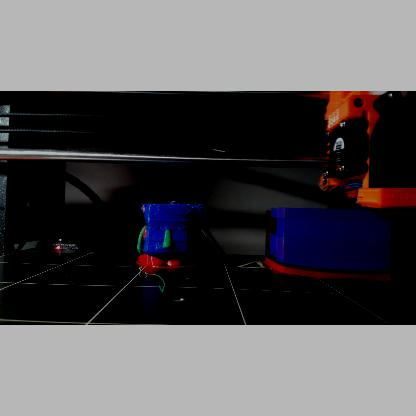fail: (155, 204, 207, 216), (154, 242, 162, 250)
